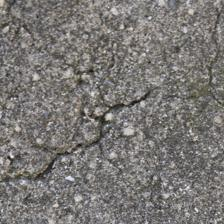Crack: (13, 44, 145, 137)
